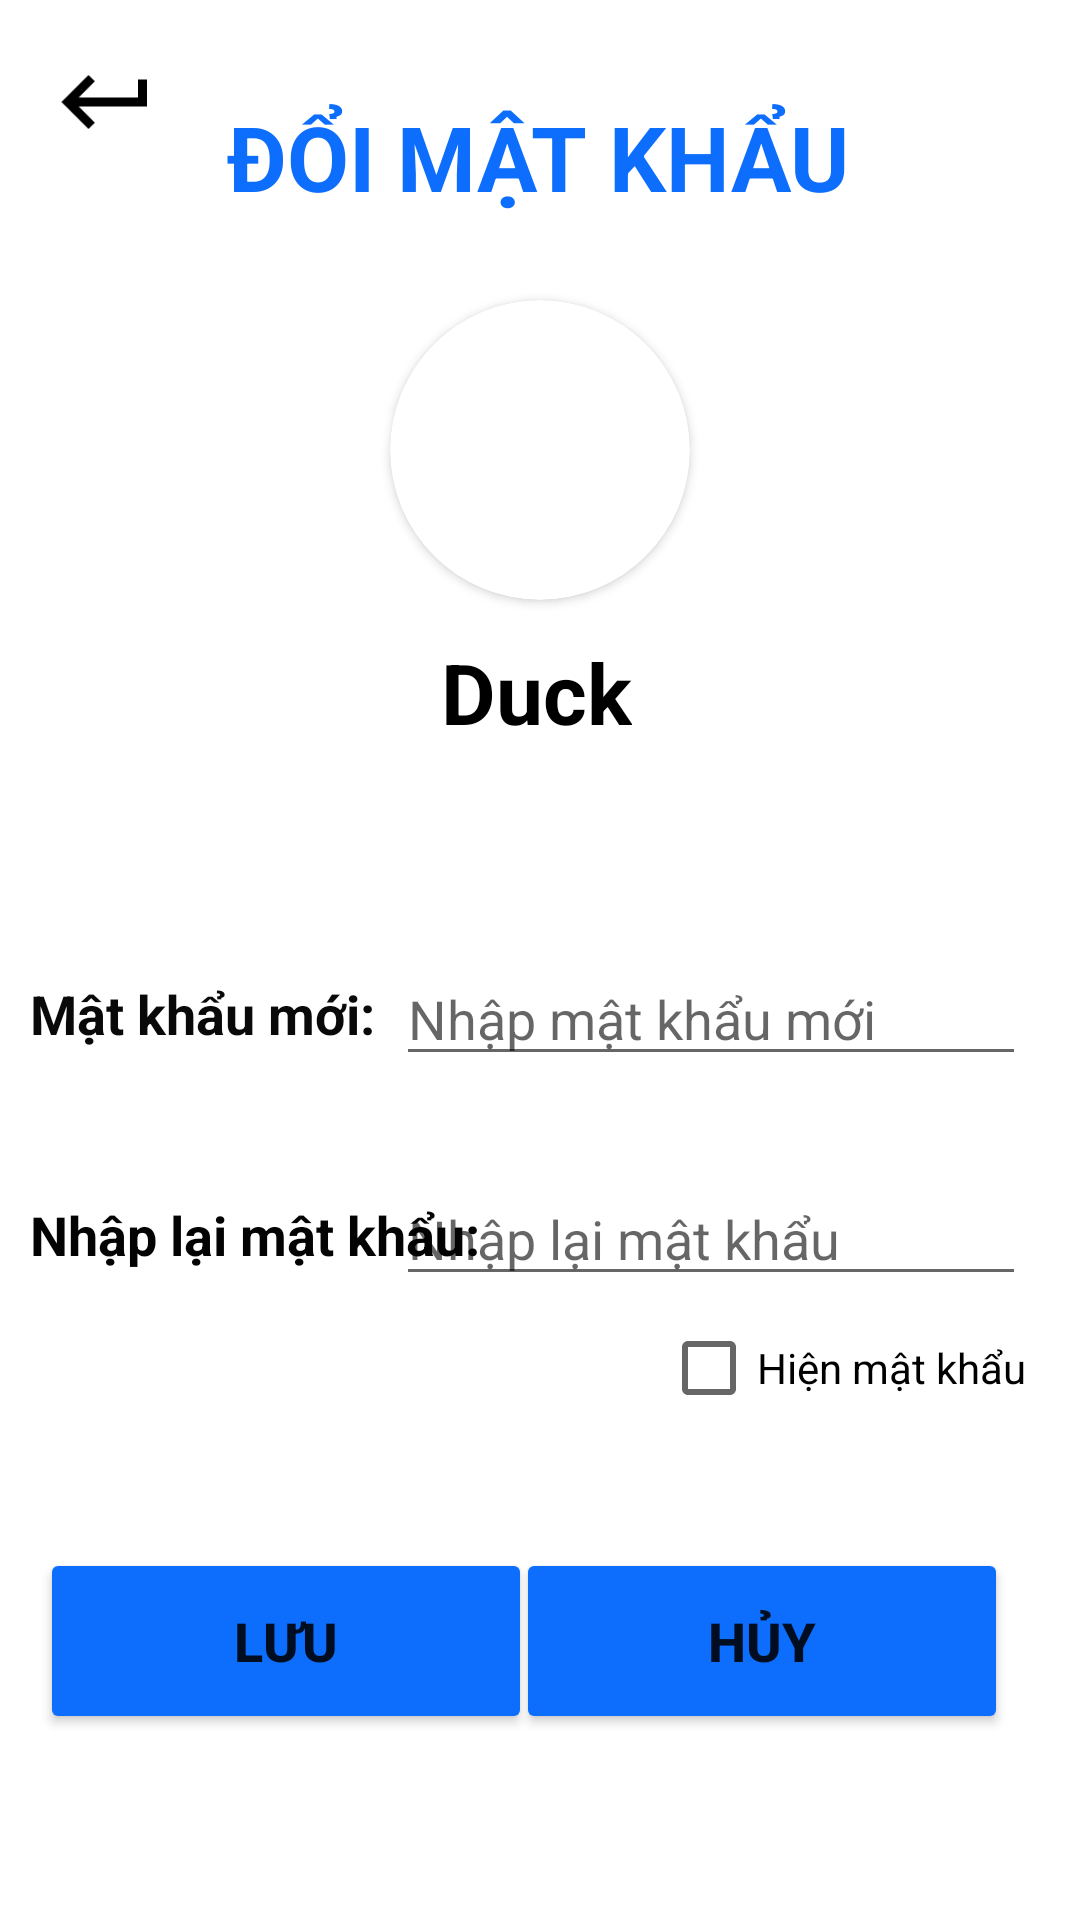

Named icons in this screenshot (1080×1920) and their bounding boxes, rect(x1, y1, x2, y2):
keyboard return: rect(61, 75, 147, 129)
